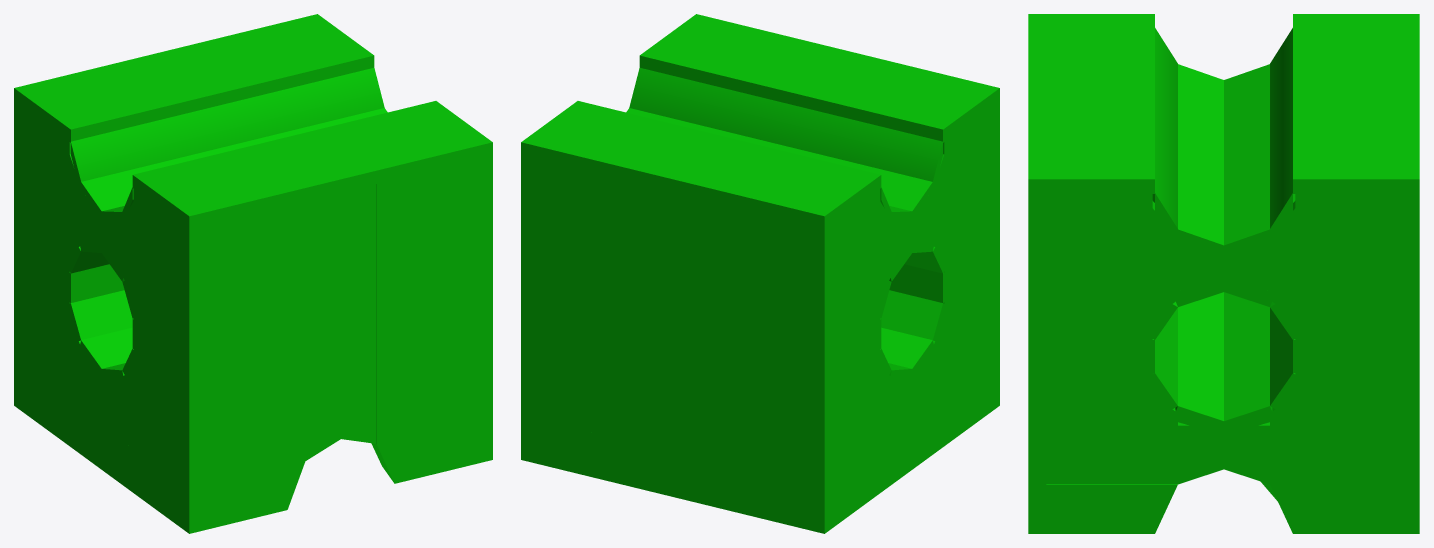
File: UCXKugelbahn.21.fbx
The picture shows the model from 3 angles, left to right: view 1: azimuth 30°, elevation 25°; view 2: azimuth 150°, elevation 25°; view 3: azimuth 270°, elevation 25°; orthographic projection. The views are drawn at different scales.
Parts seen in each view (by area): view 1: UCX_Kugelbahn.21_low; view 2: UCX_Kugelbahn.21_low; view 3: UCX_Kugelbahn.21_low.
Boxes of the visible parts, x1,y1,x2,y2 form: UCX_Kugelbahn.21_low: (14,14,492,533); UCX_Kugelbahn.21_low: (521,14,999,533); UCX_Kugelbahn.21_low: (1028,14,1419,533).
Size of the model in its own units: 0.05 by 0.05 by 0.05.
